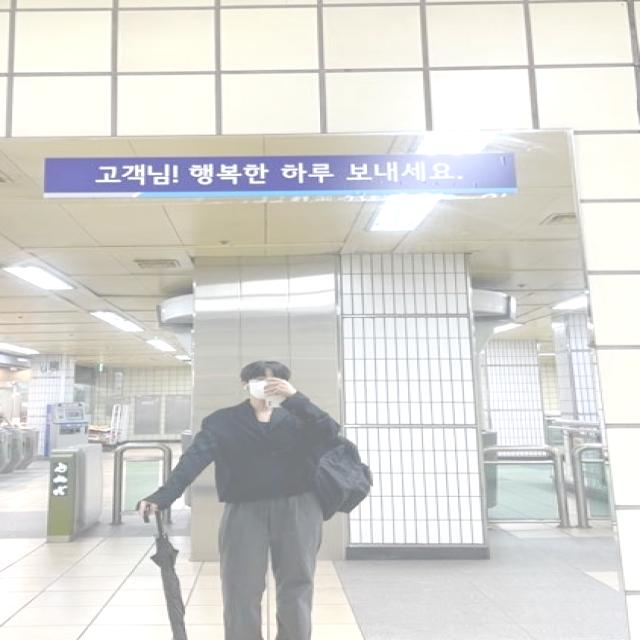blazer: (147, 388, 343, 502)
slacks: (218, 497, 322, 640)
